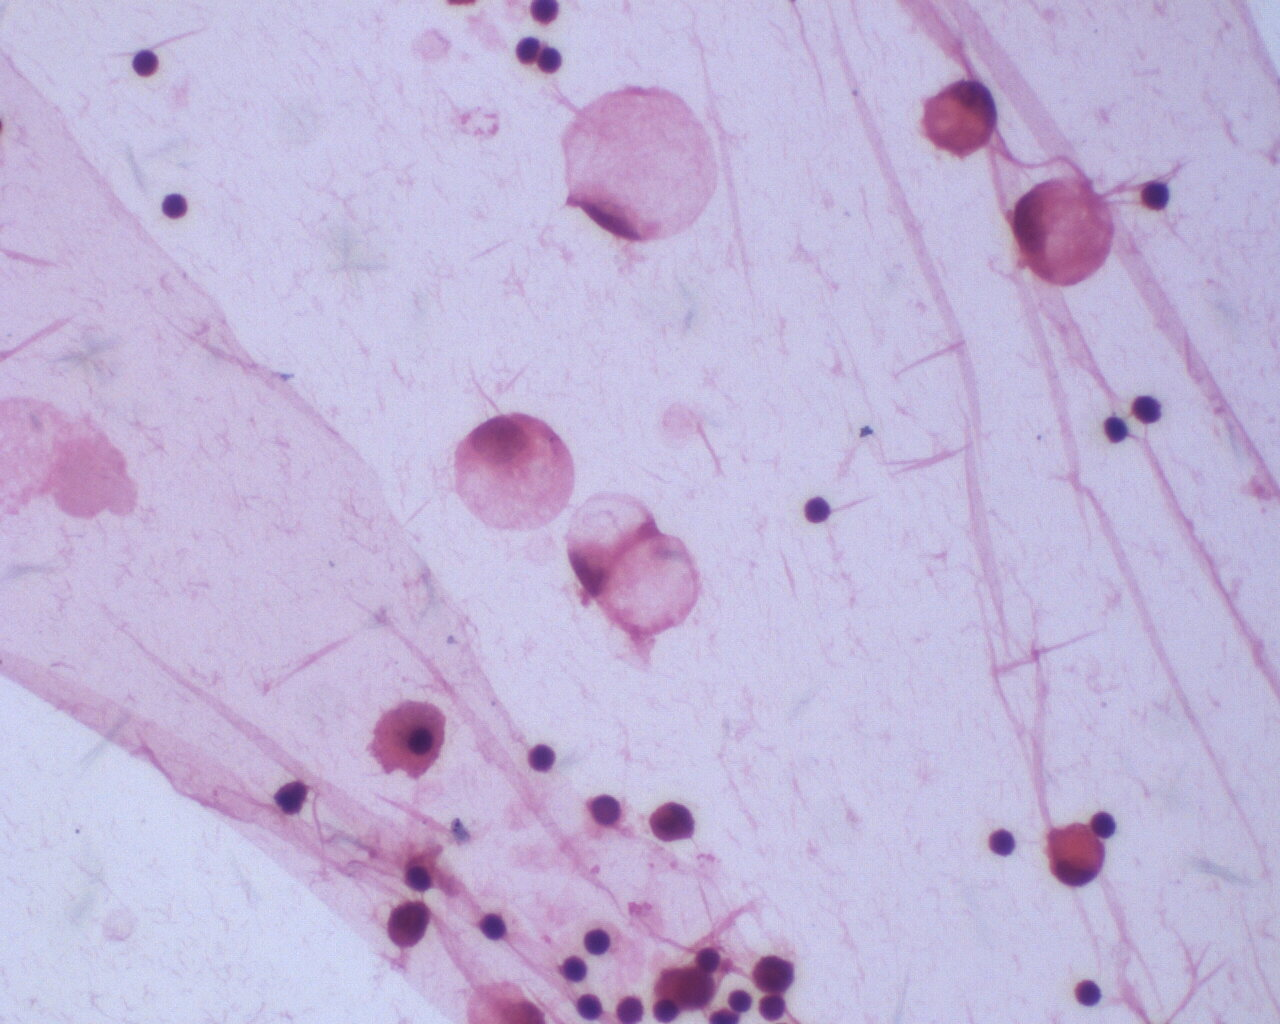ab: (752, 952, 801, 997)
histo: (556, 76, 726, 249), (567, 489, 707, 643), (440, 401, 584, 537), (1005, 168, 1125, 295), (914, 73, 1010, 161)
lymph: (1135, 174, 1179, 216), (984, 821, 1025, 862), (127, 45, 166, 88), (799, 491, 838, 533), (1067, 972, 1106, 1009), (476, 910, 512, 946), (581, 923, 616, 958), (577, 986, 611, 1020), (1098, 413, 1131, 448), (159, 187, 189, 222)
